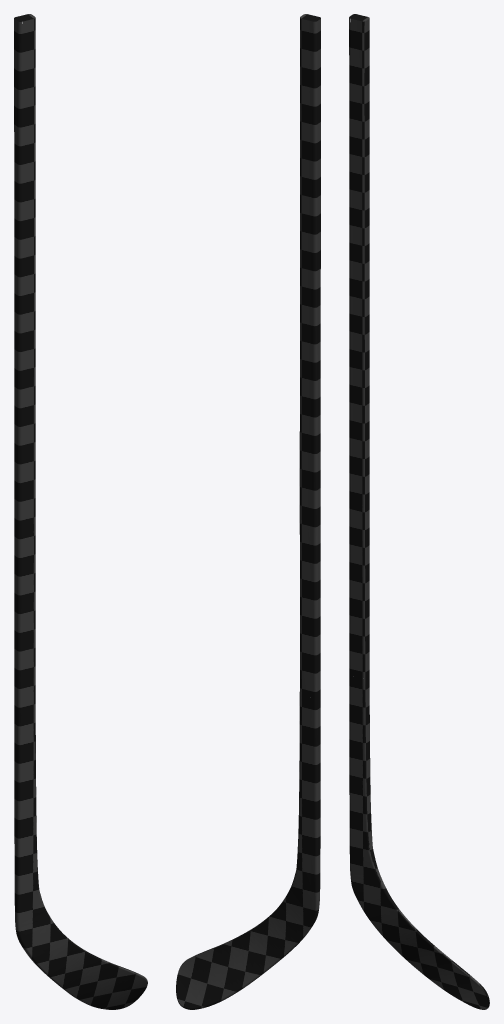
The picture shows the model from 3 angles, left to right: view 1: azimuth 30°, elevation 25°; view 2: azimuth 150°, elevation 25°; view 3: azimuth 330°, elevation 25°; orthographic projection. The views are drawn at different scales.
Visible parts, largest first — view 1: geometry_0; view 2: geometry_0; view 3: geometry_0.
Boxes of the visible parts, x1,y1,x2,y2 form: geometry_0: (14,14,147,1009); geometry_0: (176,14,320,1009); geometry_0: (349,14,489,1009).
Size of the model in its own units: 231 by 1650 by 58.1.
1 material, 1 textured.
